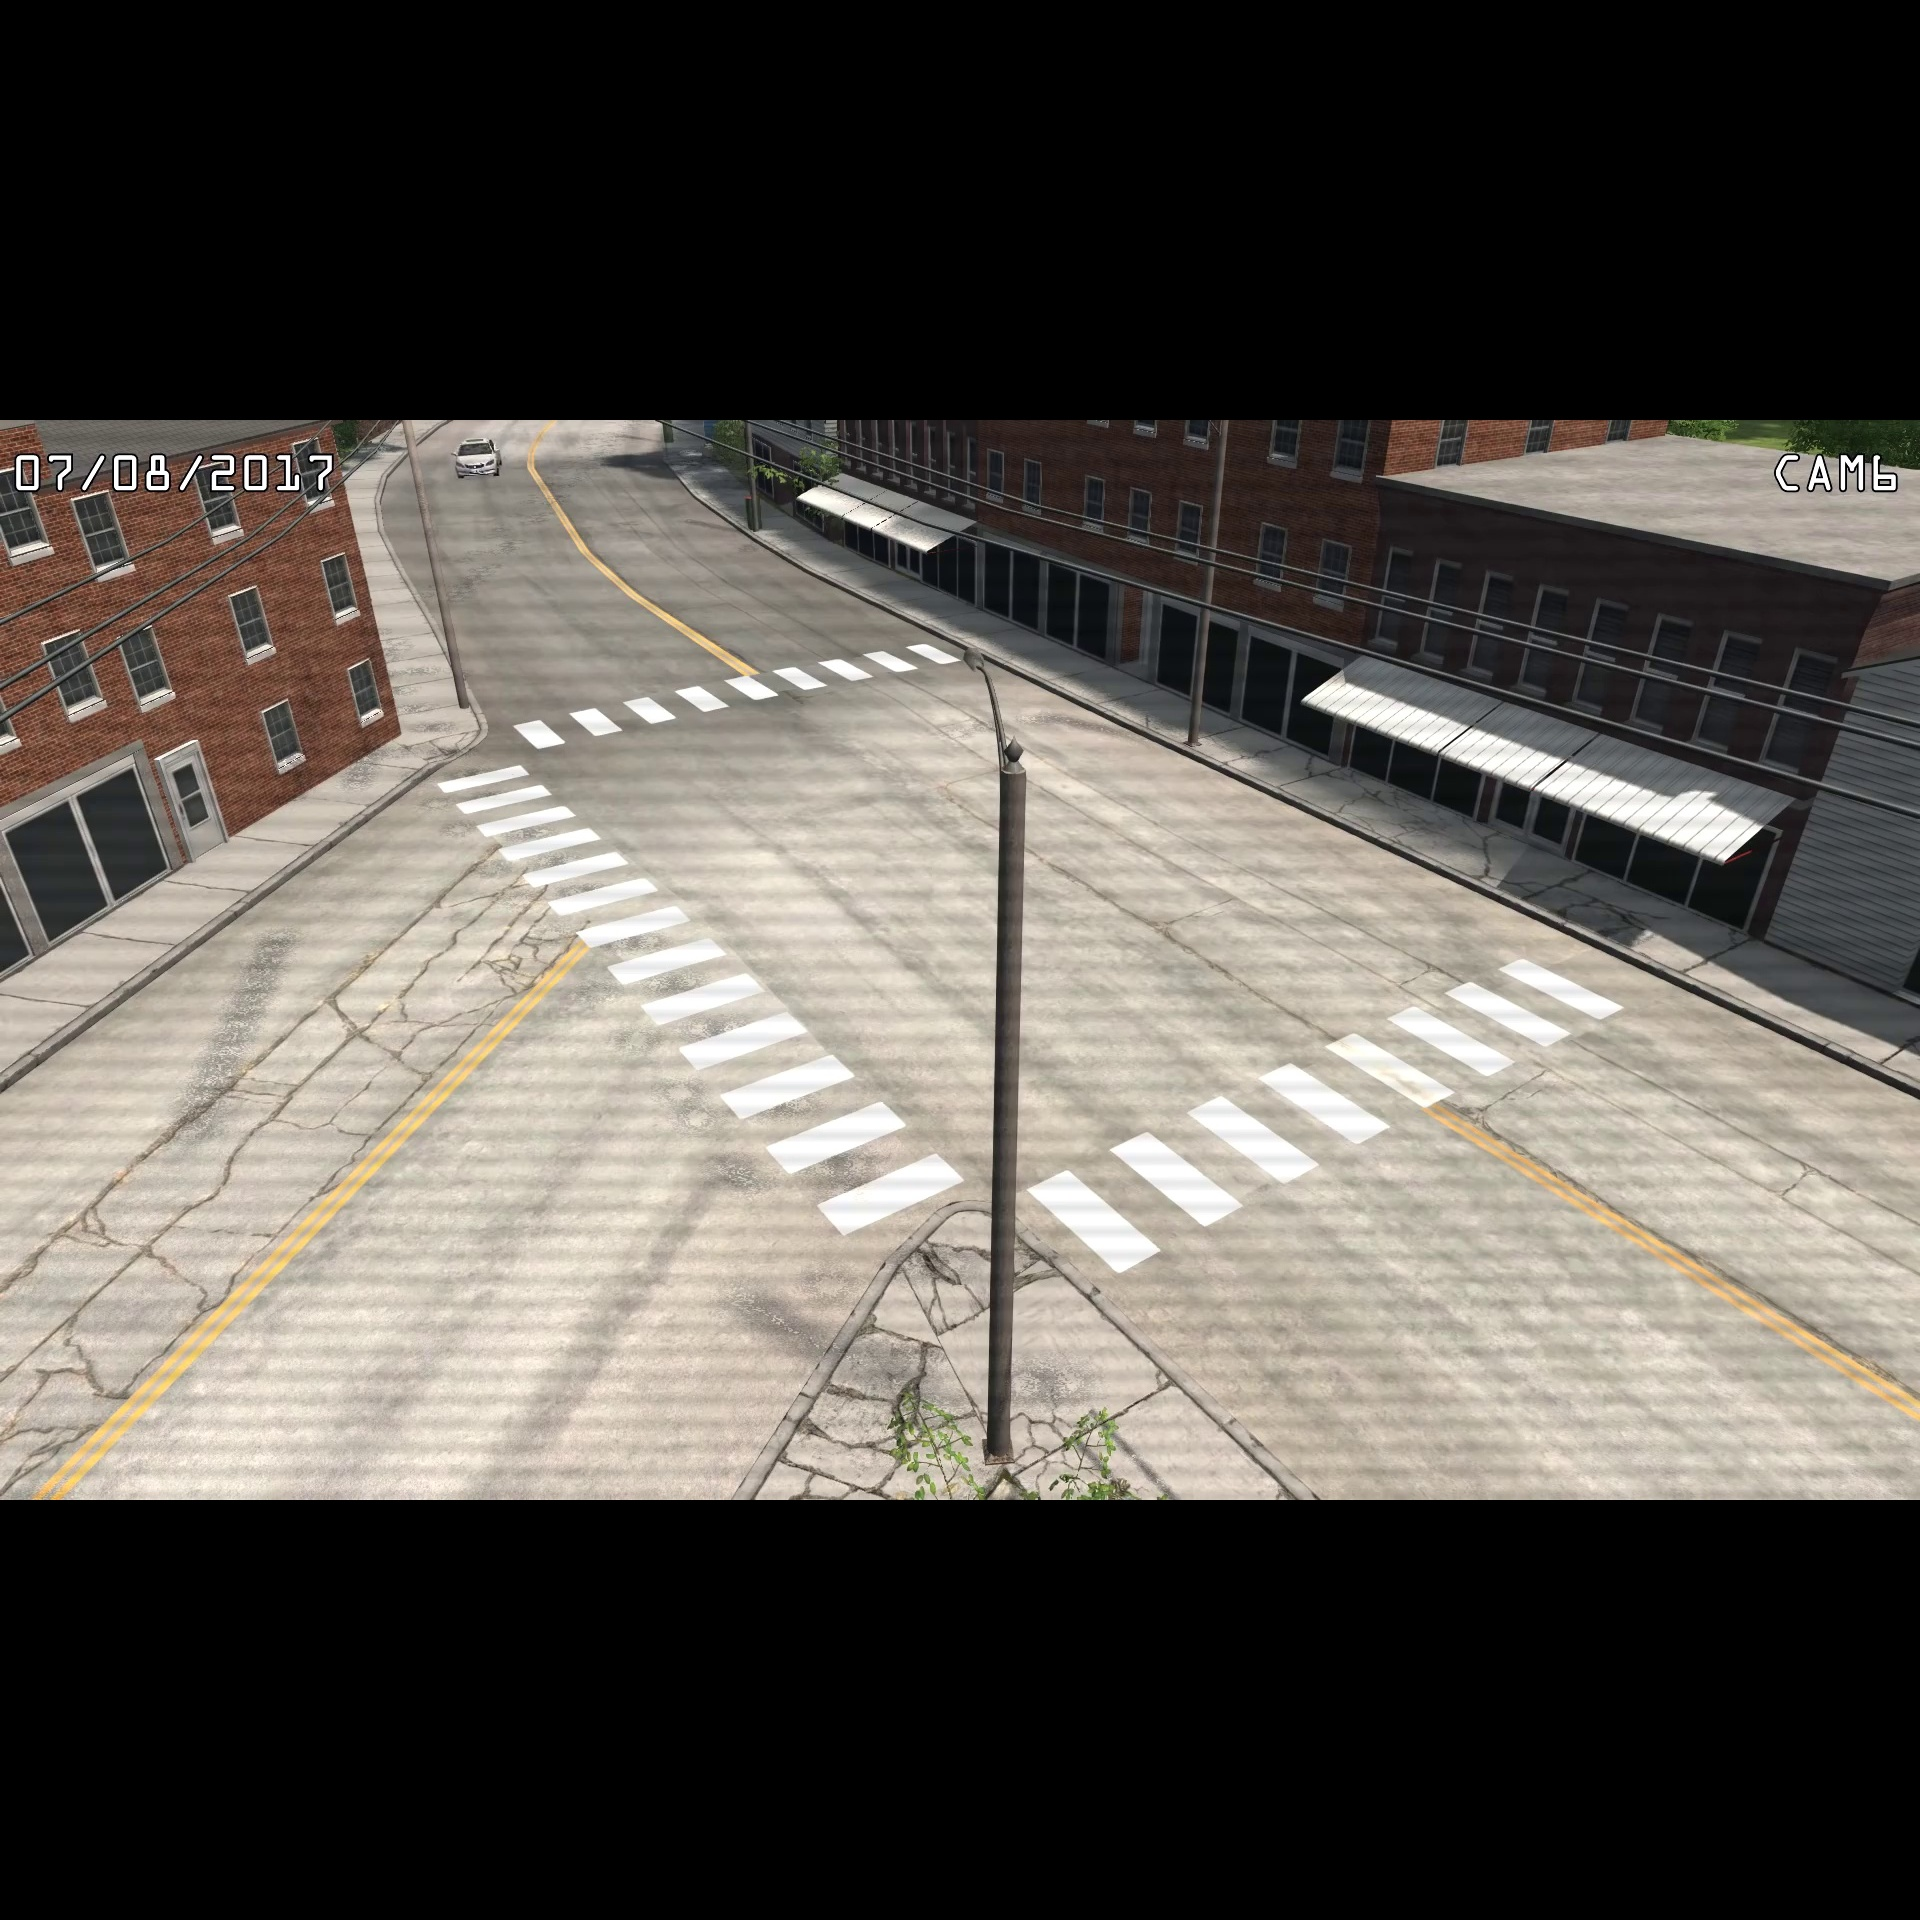vehicle: (448, 434, 506, 482)
